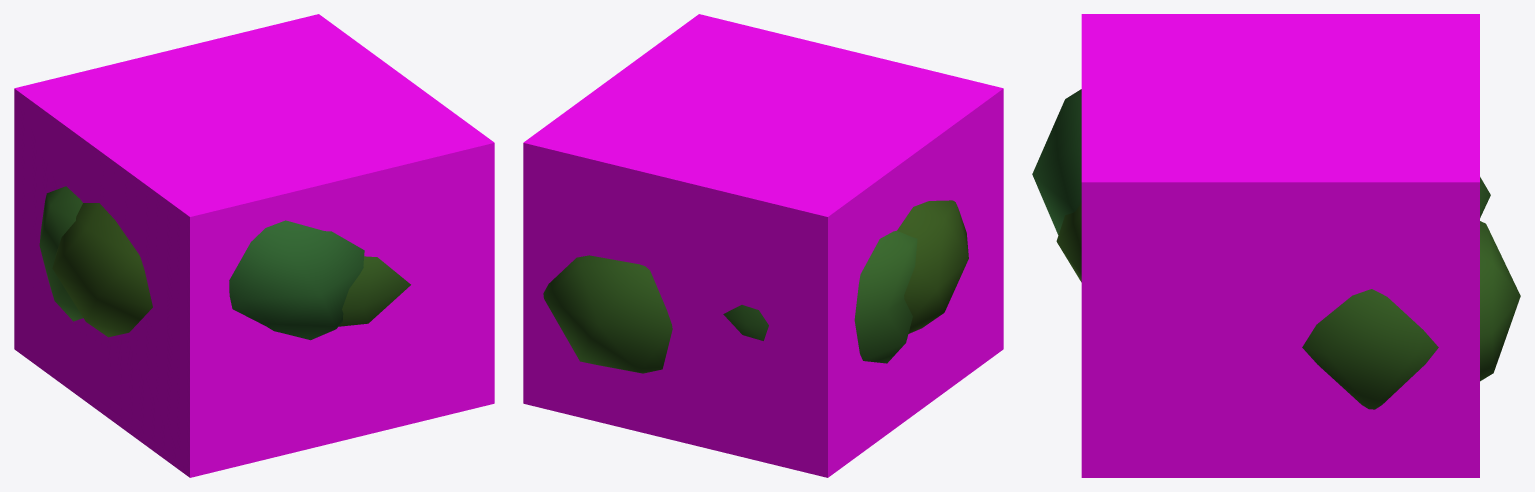
The model's file is PRP_Bush_Hide_A.glb.
The picture shows the model from 3 angles, left to right: view 1: azimuth 30°, elevation 25°; view 2: azimuth 150°, elevation 25°; view 3: azimuth 270°, elevation 25°; orthographic projection. The views are drawn at different scales.
Visible parts, largest first — view 1: COL_Bush, PRP_Bush_Hide_A_Mesh; view 2: COL_Bush, PRP_Bush_Hide_A_Mesh; view 3: COL_Bush, PRP_Bush_Hide_A_Mesh.
Part boxes in pixels (x1,y1,x2,y2): COL_Bush: [14, 14, 494, 477]; PRP_Bush_Hide_A_Mesh: [39, 186, 410, 340]; COL_Bush: [523, 14, 1003, 477]; PRP_Bush_Hide_A_Mesh: [543, 200, 968, 373]; COL_Bush: [1081, 14, 1479, 477]; PRP_Bush_Hide_A_Mesh: [1032, 89, 1520, 409].
Bounding box in the file's own units: 1.27 × 0.9 × 1.35.
